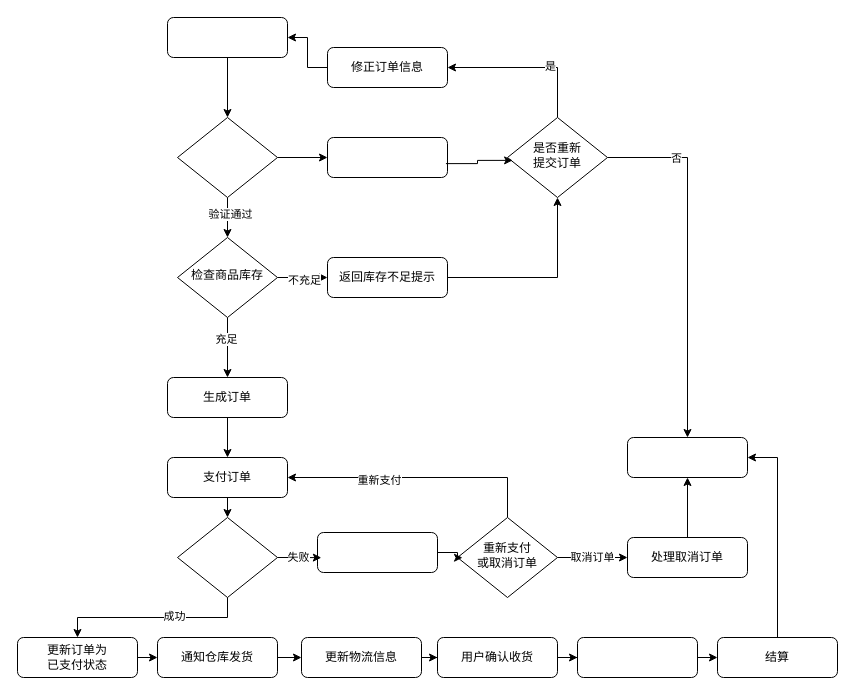
Image size: 855x695. Some labels were removed from this diagram. Here are the shapes that lost their labels. From the top down, the centre of each, then its label:
[227,37]: 用户提交订单
[227,157]: 订单信息验证
[387,157]: 返回错误信息
[687,457]: 订单关闭
[227,557]: 检查支付结果
[377,552]: 返回错误信息 ， 回到待支付状态
[637,657]: 订单完成
